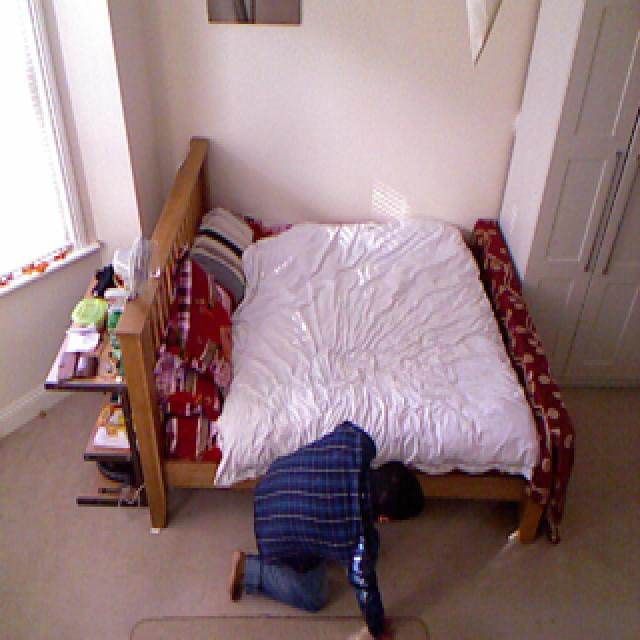crawling: (228, 418, 428, 640)
